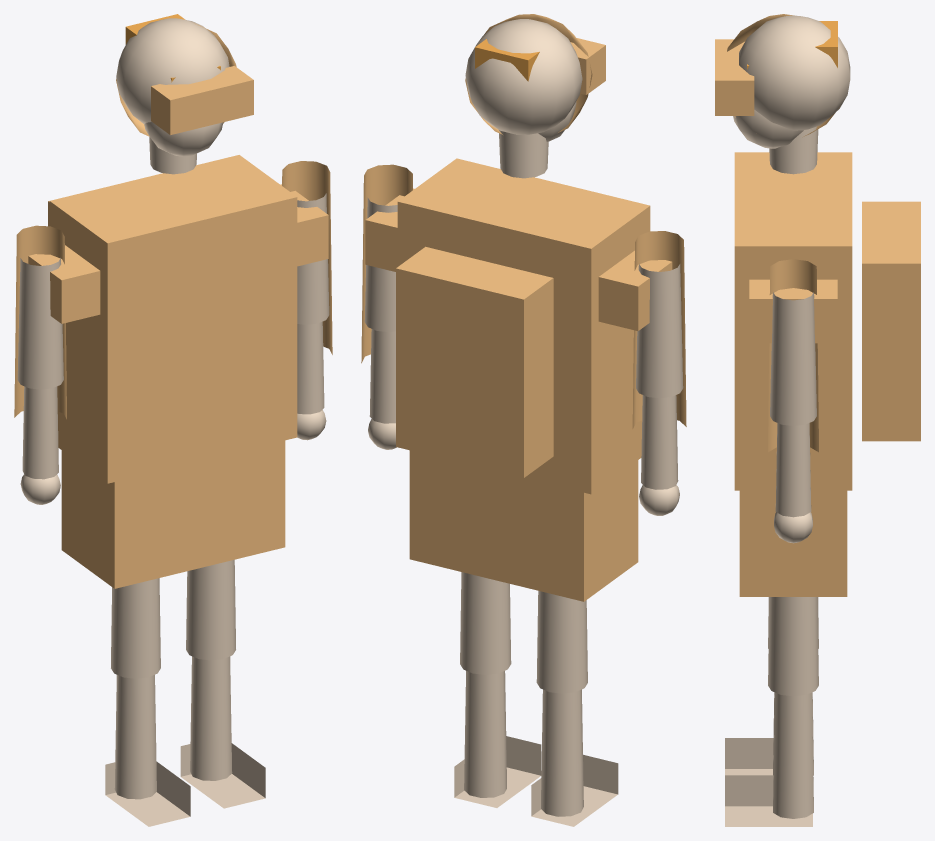
File: body.glb
3 views of the same model, side by side, from view 1: azimuth 30°, elevation 25°; view 2: azimuth 150°, elevation 25°; view 3: azimuth 270°, elevation 25° (orthographic). The views are drawn at different scales.
Parts seen in each view (by area): view 1: Metal, Skin; view 2: Metal, Skin, Hair; view 3: Metal, Skin, Hair.
Boxes of the visible parts, x1,y1,x2,y2 form: Metal: (14,23,332,588); Skin: (17,18,329,826); Metal: (361,14,686,601); Skin: (364,19,683,826); Hair: (475,39,539,81); Metal: (715,14,920,596); Skin: (725,15,850,826); Hair: (747,21,837,69).
Bounding box in the file's own units: 0.7456 × 1.75 × 0.42.
